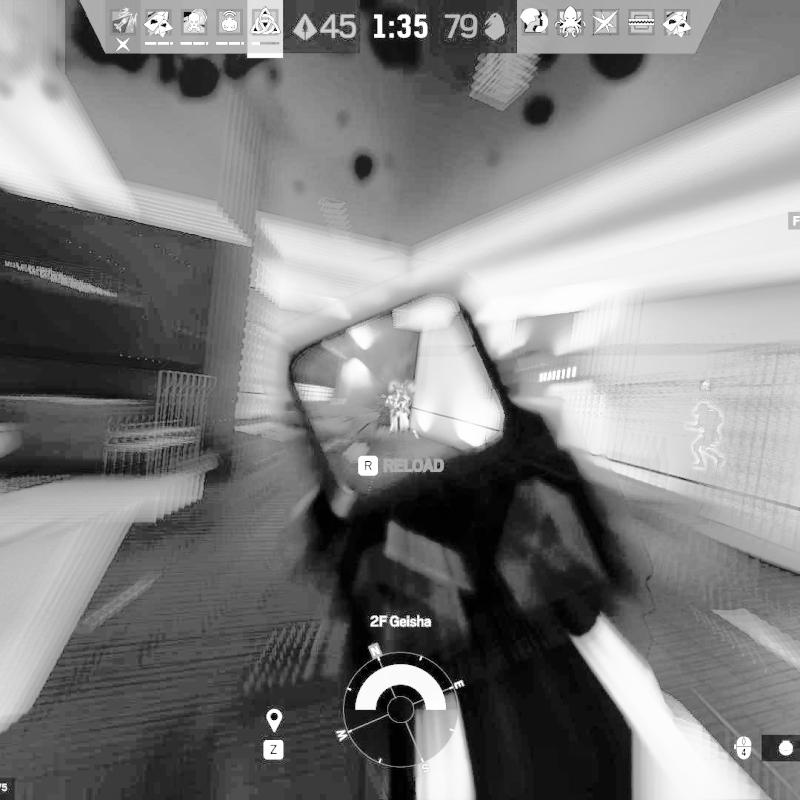Character: (385, 378, 416, 434)
Friend_label: (692, 378, 720, 406)
